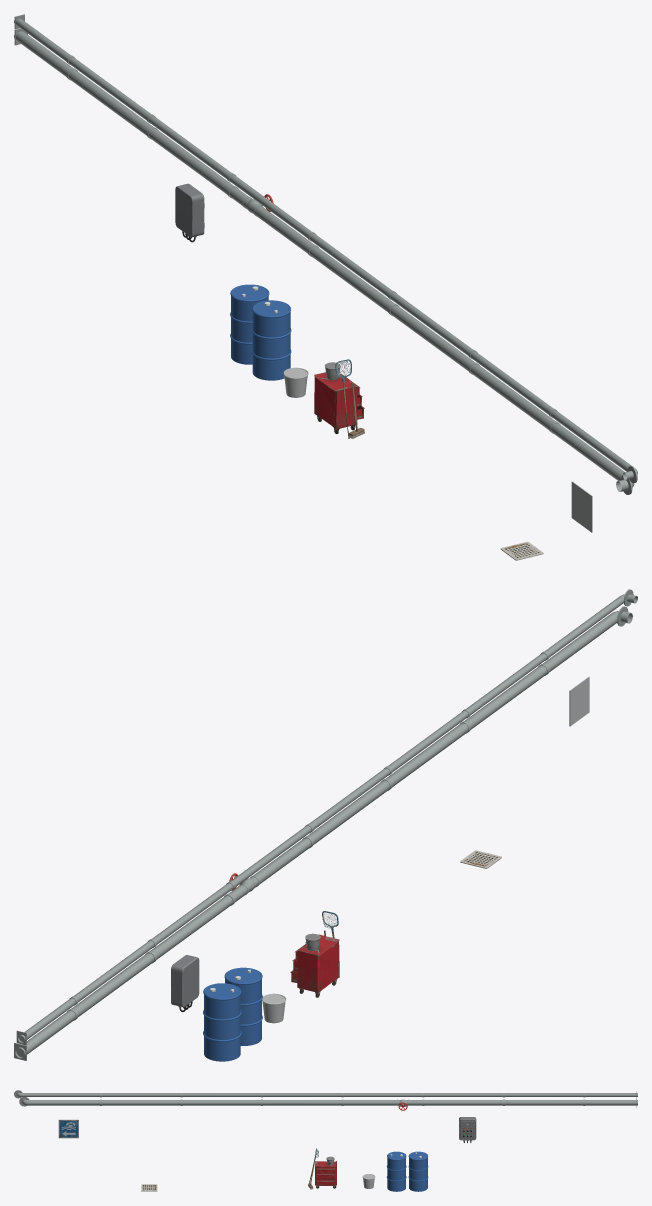
The model's file is corridoio_fiume.gltf.
3 views of the same model, one above another, from view 1: azimuth 30°, elevation 25°; view 2: azimuth 150°, elevation 25°; view 3: azimuth 270°, elevation 25° (orthographic). The views are drawn at different scales.
Parts seen in each view (by area): view 1: tubo_pompe_0, tubo_pompe_1, bidone_1, carrello_attrezzi, bidone_0, quadro_elettrico, cartello_fiume; view 2: tubo_pompe_0, tubo_pompe_1, bidone_0, carrello_attrezzi, bidone_1, quadro_elettrico, cartello_fiume; view 3: tubo_pompe_0, tubo_pompe_1, bidone_1, bidone_0, carrello_attrezzi, quadro_elettrico, cartello_fiume.
Boxes of the visible parts, x1,y1,x2,y2 form: tubo_pompe_0: (14, 28, 634, 494); tubo_pompe_1: (14, 14, 637, 483); bidone_1: (252, 300, 291, 380); carrello_attrezzi: (314, 359, 364, 438); bidone_0: (230, 284, 269, 364); quadro_elettrico: (175, 183, 204, 242); cartello_fiume: (571, 481, 592, 532); tubo_pompe_0: (14, 606, 632, 1060); tubo_pompe_1: (16, 589, 637, 1045); bidone_0: (203, 983, 241, 1061); carrello_attrezzi: (290, 911, 339, 997); bidone_1: (224, 967, 262, 1045); quadro_elettrico: (171, 955, 199, 1012); cartello_fiume: (569, 676, 589, 726); tubo_pompe_0: (19, 1097, 637, 1110); tubo_pompe_1: (14, 1090, 637, 1099); bidone_1: (386, 1151, 406, 1191); bidone_0: (408, 1151, 428, 1191); carrello_attrezzi: (308, 1148, 336, 1189); quadro_elettrico: (459, 1117, 476, 1142); cartello_fiume: (58, 1119, 78, 1138).
Size of what is drawn, in the model's own units: 0.6 by 2.56 by 15.49.
Materials: 10 (4 with a texture image).
